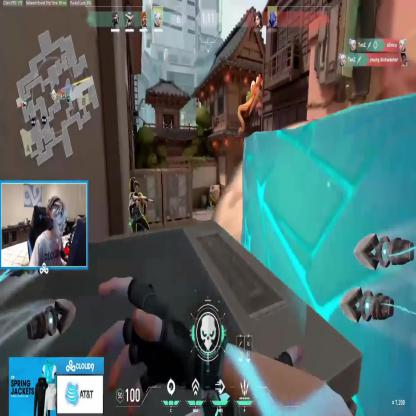enemy: (126, 180, 152, 249)
enemy_head: (134, 180, 140, 194)
